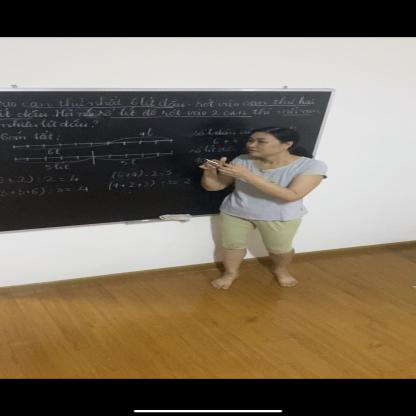cigarette: (205, 158, 219, 164)
person: (206, 126, 328, 292)
